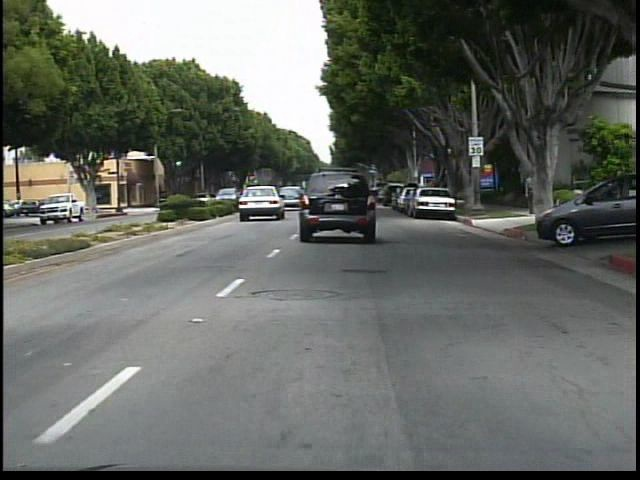person: (518, 171, 539, 219)
